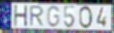4: (96, 7, 108, 29)
5: (63, 5, 76, 29)
G: (46, 5, 61, 28)
H: (13, 4, 29, 28)
O: (78, 6, 93, 30)
R: (29, 5, 45, 27)
